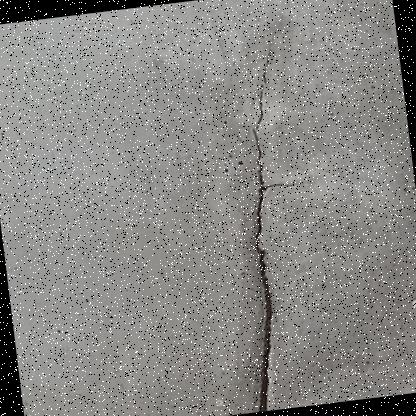Crack: (196, 13, 328, 412), (388, 365, 415, 395)
